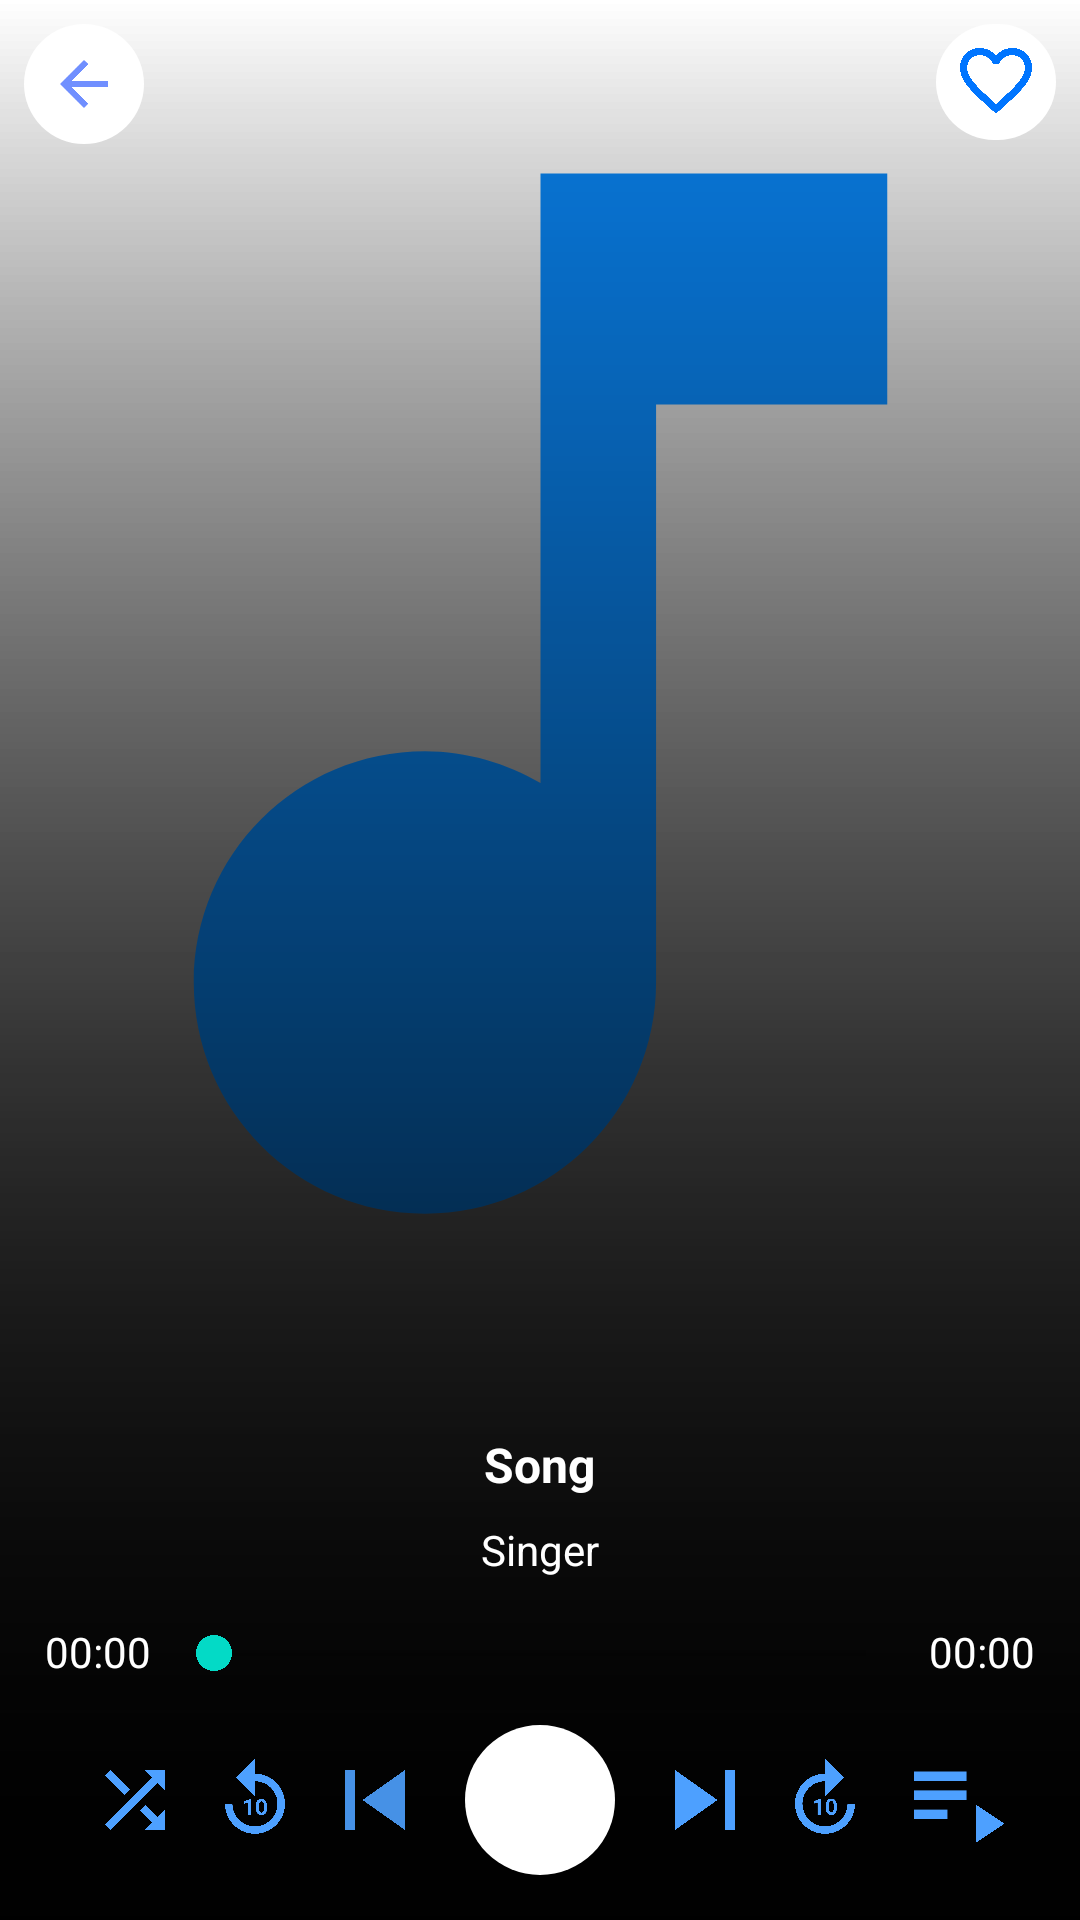

Locate icon controls on the screen. Image size 1080 × 1920, boxes as (x1, y1, x2, y2).
arrow back: (24, 24, 144, 144)
forward: (795, 1759, 855, 1834)
like: (936, 24, 1056, 140)
playlist play: (914, 1771, 1004, 1842)
replay: (225, 1759, 285, 1834)
shuffle: (105, 1770, 165, 1830)
skip next: (675, 1770, 735, 1830)
skip previous: (345, 1770, 405, 1830)
